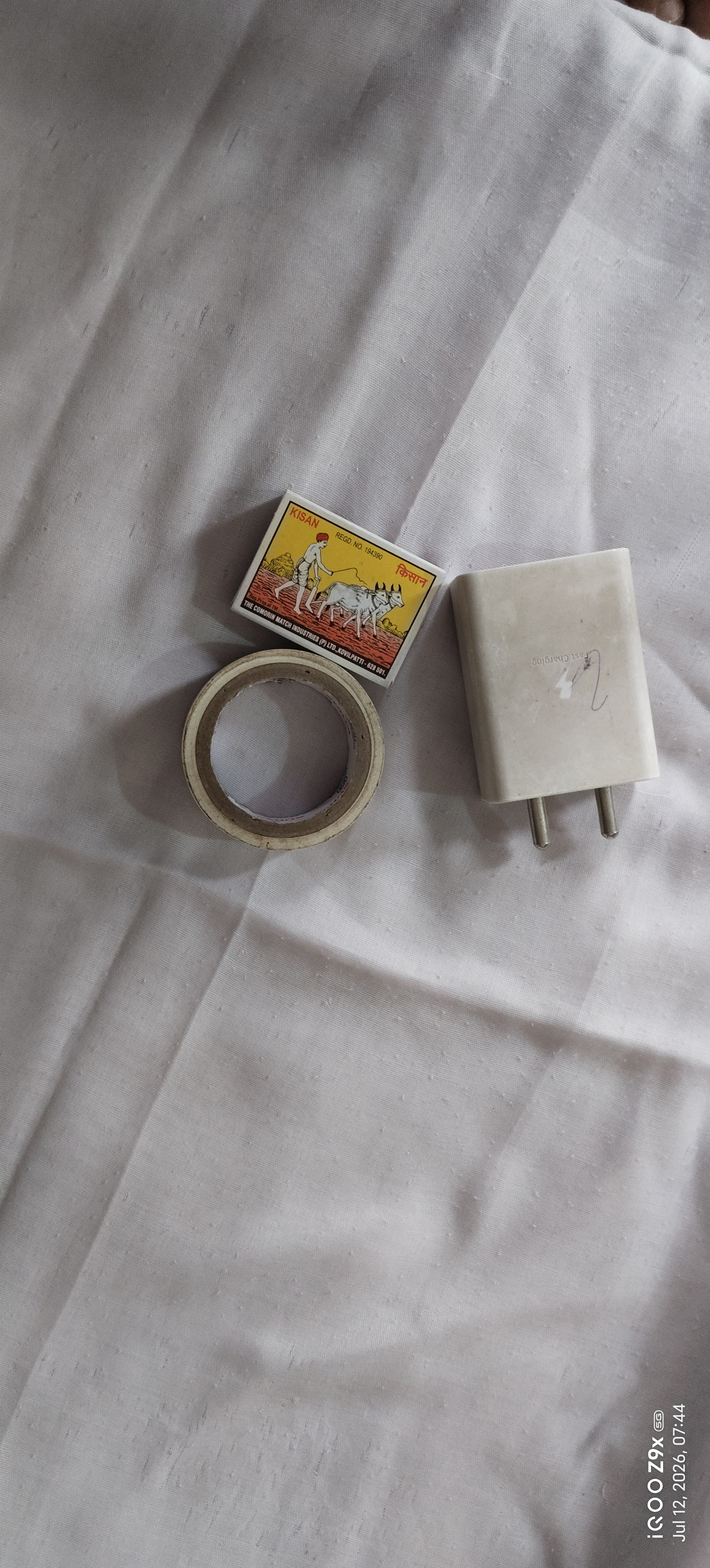charger: (447, 539, 675, 873)
matchbox: (223, 480, 442, 690)
tape_roll: (170, 644, 395, 861)
